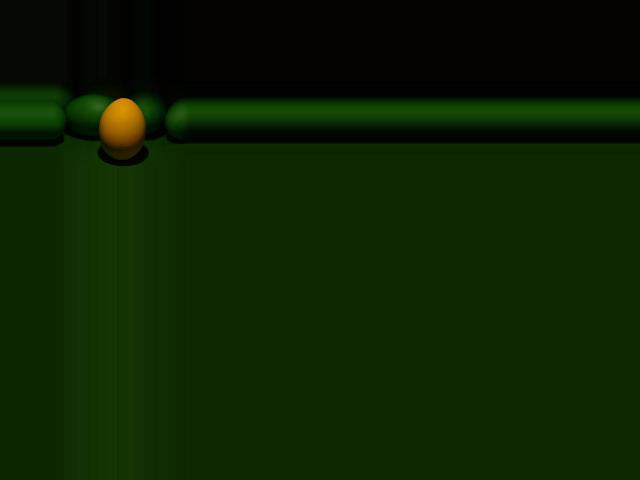egg: (98, 98, 145, 160)
